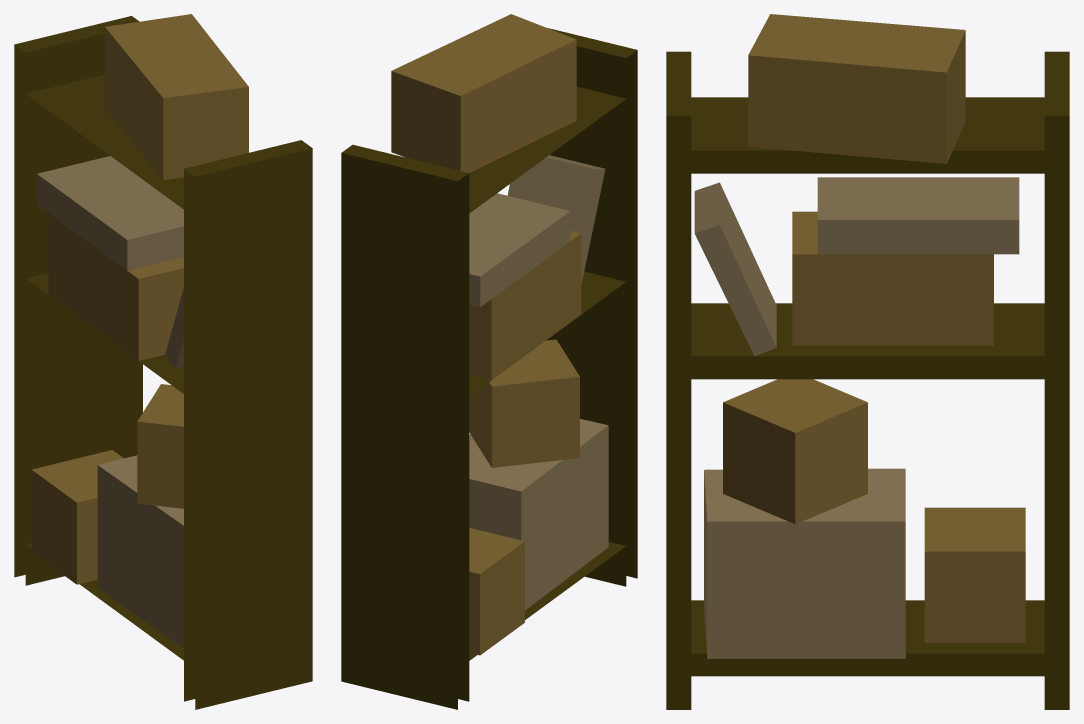
Rendered from obj_warehouse_shelves_3_0.obj.
The picture shows the model from 3 angles, left to right: view 1: azimuth 30°, elevation 25°; view 2: azimuth 150°, elevation 25°; view 3: azimuth 270°, elevation 25°; orthographic projection. The views are drawn at different scales.
Size of the model in its own units: 0.3984 by 1.75 by 1.
